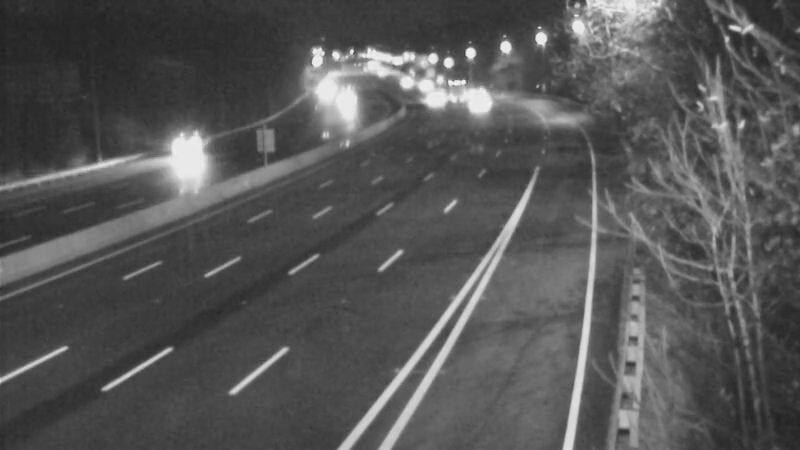vehicle: (379, 58, 429, 108), (398, 61, 448, 111), (429, 64, 479, 114), (450, 68, 500, 118), (411, 77, 461, 127), (447, 78, 497, 128), (162, 123, 212, 173), (318, 79, 368, 129)
